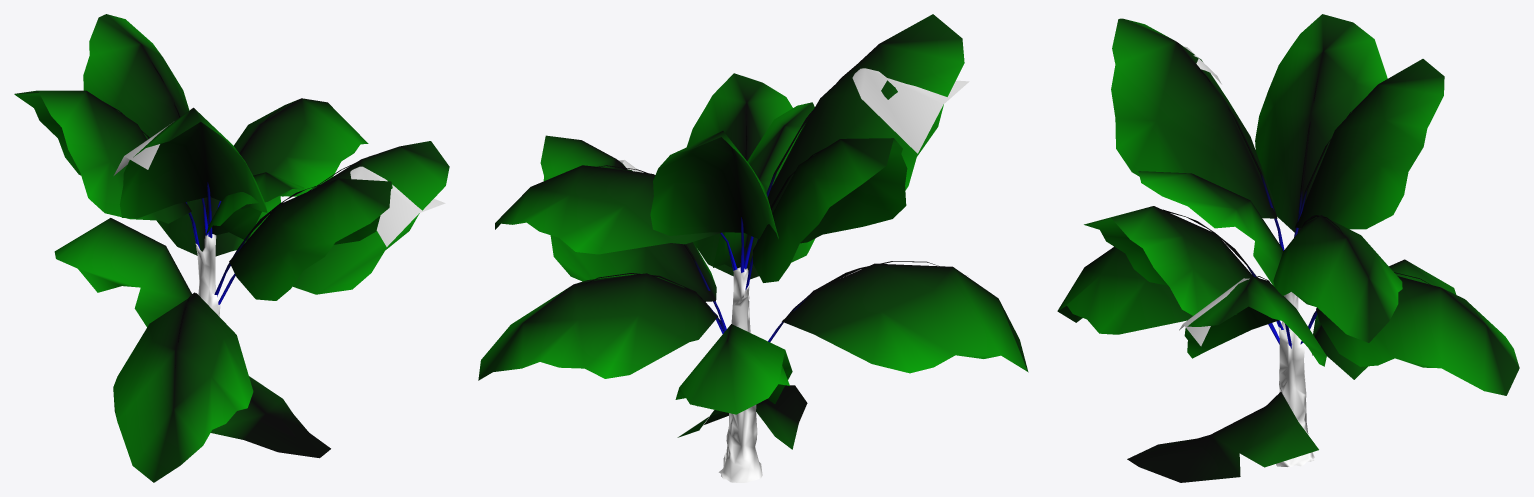
Rendered from CoconutPalmTree03_afsTREE_xlprl06_xlod03.fbx.
3 renders of one model, left to right at view 1: azimuth 30°, elevation 25°; view 2: azimuth 150°, elevation 25°; view 3: azimuth 270°, elevation 25°, orthographic. The views are drawn at different scales.
Visible parts, largest first — view 1: PalmBranch01_xw03_xt05_xlp00, PalmBranch01_xw04_xt06_xlp00, PalmBranch01_xw08_xt06_xlp00, PalmBranch01_xw07_xt07_xlp00, PalmBranch01_xw09_xt08_xlp00, PalmBranch01_xw06_xt06_xlp00, DeadPalmBranch_xw02_xt03_xlp02_xp03, PalmBranch01_xw06_xt05_xlp00, DeadPalmBranch_xw00_xt00_xlp00, DeadPalmBranch_xw04_xt08_xlp05_xp04, PalmBranch01_xw04_xt06_xlp00.001, PalmBlade02_bent_right_xw03_xt05_xlp05.001 (+2 smaller); view 2: PalmBranch01_xw03_xt05_xlp00, PalmBranch01_xw04_xt06_xlp00.001, PalmBranch01_xw07_xt07_xlp00, PalmBranch01_xw08_xt06_xlp00, PalmBranch01_xw06_xt06_xlp00, PalmBranch01_xw09_xt08_xlp00, PalmBranch01_xw06_xt05_xlp00, DeadPalmBranch_xw02_xt03_xlp02_xp03, PalmBranch01_xw04_xt06_xlp00, PalmBlade02_bent_right_xw03_xt05_xlp05, trunk_CoconutPalmTree03_xw04_xt03_xlp05, DeadPalmBranch_xw04_xt08_xlp05_xp04 (+1 smaller); view 3: PalmBranch01_xw08_xt06_xlp00, PalmBranch01_xw07_xt07_xlp00, PalmBranch01_xw09_xt08_xlp00, PalmBranch01_xw04_xt06_xlp00.001, PalmBranch01_xw06_xt06_xlp00, PalmBranch01_xw04_xt06_xlp00, DeadPalmBranch_xw00_xt00_xlp00, PalmBranch01_xw03_xt05_xlp00, DeadPalmBranch_xw04_xt08_xlp05_xp04, PalmBranch01_xw06_xt05_xlp00, trunk_CoconutPalmTree03_xw04_xt03_xlp05, DeadPalmBranch_xw02_xt03_xlp02_xp03 (+1 smaller).
Boxes of the visible parts, x1,y1,x2,y2 form: PalmBranch01_xw03_xt05_xlp00: (113,293,253,482); PalmBranch01_xw04_xt06_xlp00: (229,178,392,300); PalmBranch01_xw08_xt06_xlp00: (119,107,267,218); PalmBranch01_xw07_xt07_xlp00: (14,90,191,223); PalmBranch01_xw09_xt08_xlp00: (83,14,189,139); PalmBranch01_xw06_xt06_xlp00: (234,98,368,196); DeadPalmBranch_xw02_xt03_xlp02_xp03: (54,218,192,327); PalmBranch01_xw06_xt05_xlp00: (293,141,449,294); DeadPalmBranch_xw00_xt00_xlp00: (210,376,330,458); DeadPalmBranch_xw04_xt08_xlp05_xp04: (206,172,304,240); PalmBranch01_xw04_xt06_xlp00.001: (156,196,280,256); PalmBlade02_bent_right_xw03_xt05_xlp05.001: (350,166,445,246); PalmBranch01_xw03_xt05_xlp00: (782,263,1028,373); PalmBranch01_xw04_xt06_xlp00.001: (478,273,717,380); PalmBranch01_xw07_xt07_xlp00: (753,138,907,282); PalmBranch01_xw08_xt06_xlp00: (767,14,964,213); PalmBranch01_xw06_xt06_xlp00: (495,165,721,254); PalmBranch01_xw09_xt08_xlp00: (650,131,778,239); PalmBranch01_xw06_xt05_xlp00: (540,135,716,301); DeadPalmBranch_xw02_xt03_xlp02_xp03: (675,324,792,414); PalmBranch01_xw04_xt06_xlp00: (687,73,814,279); PalmBlade02_bent_right_xw03_xt05_xlp05: (852,68,969,153); trunk_CoconutPalmTree03_xw04_xt03_xlp05: (718,267,762,482); DeadPalmBranch_xw04_xt08_xlp05_xp04: (713,102,814,268); PalmBranch01_xw08_xt06_xlp00: (1111,18,1277,218); PalmBranch01_xw07_xt07_xlp00: (1255,14,1387,232); PalmBranch01_xw09_xt08_xlp00: (1295,59,1444,229); PalmBranch01_xw04_xt06_xlp00.001: (1316,276,1519,395); PalmBranch01_xw06_xt06_xlp00: (1273,215,1402,342); PalmBranch01_xw04_xt06_xlp00: (1084,206,1253,315); DeadPalmBranch_xw00_xt00_xlp00: (1127,392,1318,482); PalmBranch01_xw03_xt05_xlp00: (1057,246,1192,334); DeadPalmBranch_xw04_xt08_xlp05_xp04: (1138,171,1283,286); PalmBranch01_xw06_xt05_xlp00: (1184,276,1326,366); trunk_CoconutPalmTree03_xw04_xt03_xlp05: (1276,292,1314,466); DeadPalmBranch_xw02_xt03_xlp02_xp03: (1312,259,1456,379).
Size of what is drawn, in the model's own units: 5.82 by 6.06 by 5.69.
